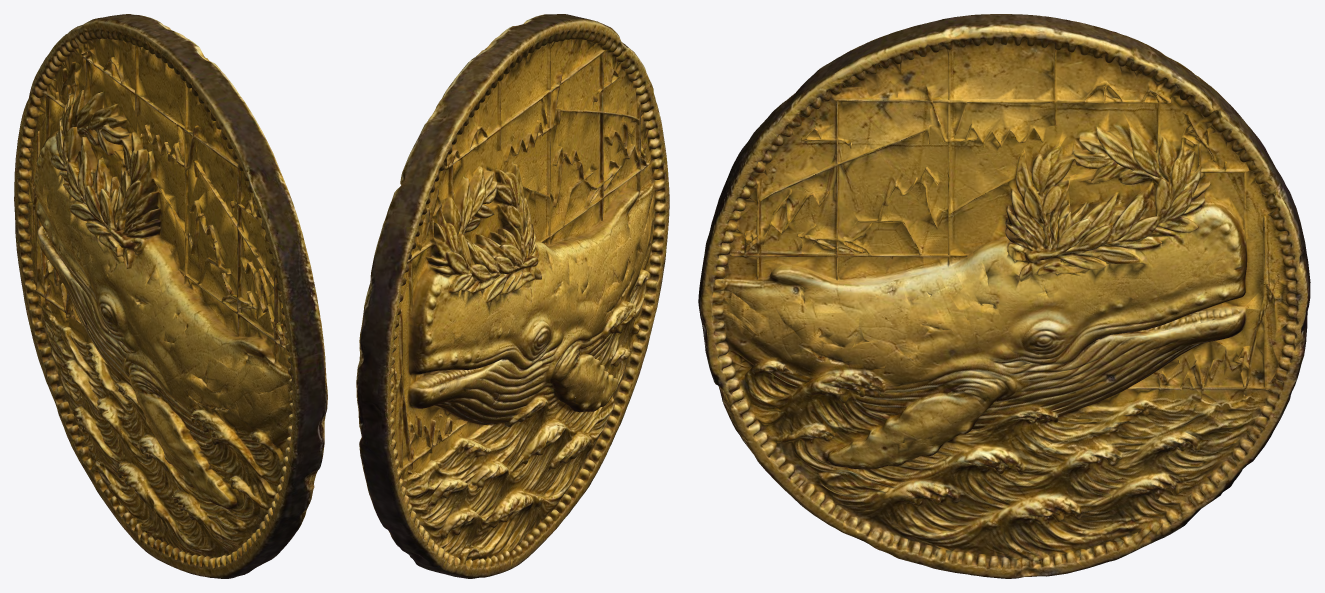
Rendered from hero-whale.glb.
3 renders of one model, left to right at view 1: azimuth 30°, elevation 25°; view 2: azimuth 150°, elevation 25°; view 3: azimuth 270°, elevation 25°, orthographic. The views are drawn at different scales.
Visible parts, largest first — view 1: tripo_node_a5621f5d-f3a6-4167-a068-cdf275799885; view 2: tripo_node_a5621f5d-f3a6-4167-a068-cdf275799885; view 3: tripo_node_a5621f5d-f3a6-4167-a068-cdf275799885.
Boxes of the visible parts, box(x1,y1,x2,y2) form: tripo_node_a5621f5d-f3a6-4167-a068-cdf275799885: box(14, 14, 327, 578); tripo_node_a5621f5d-f3a6-4167-a068-cdf275799885: box(356, 14, 669, 578); tripo_node_a5621f5d-f3a6-4167-a068-cdf275799885: box(698, 14, 1310, 578).
Size of the model in its own units: 0.1947 by 0.9951 by 0.9975.
Materials: 1 (1 with a texture image).
